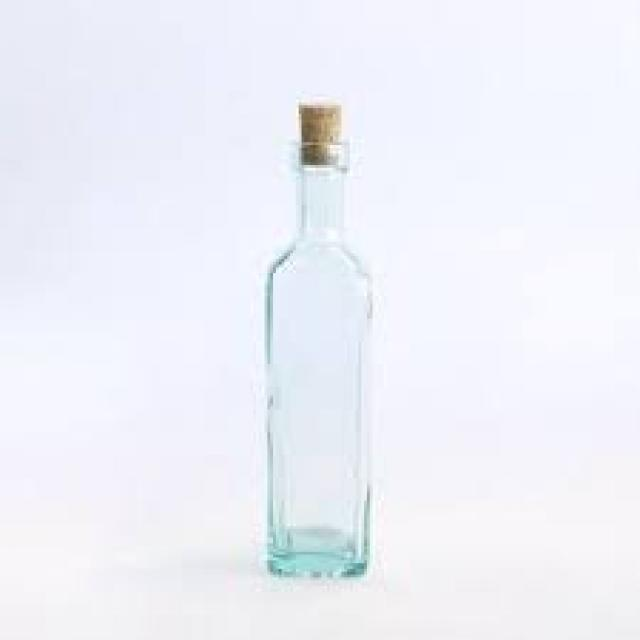Glass-Non-Biodegradable but Recyclable-: (263, 141, 379, 581)
